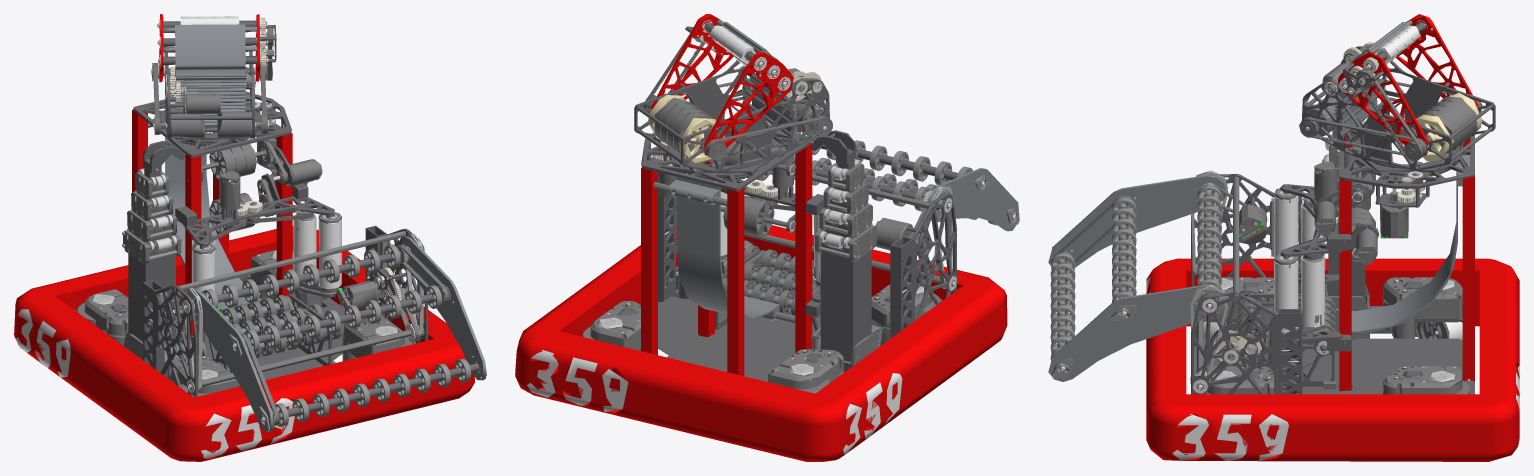
Rendered from poipounder-mmxx.glb.
3 views of the same model, side by side, from view 1: azimuth 30°, elevation 25°; view 2: azimuth 150°, elevation 25°; view 3: azimuth 270°, elevation 25° (orthographic). The views are drawn at different scales.
Visible parts, largest first — view 1: Part 7, object 1, object 151, object 121, Part 1 (×2), SDS MK5n Top Assembly (A) (×4), Intake Plate (×2), object 143, Kraken X60 Brushless Motor (×3), Kraken X44 Brushless Motor (×3), Deadaxle Tube_6.125_in (×2), object 144 (+8 smaller); view 2: Part 7, object 1, object 151, object 143, SDS MK5n Top Assembly (A) (×3), Tube 2"x1"x10" (×2), Intake Plate, Part 1, object 121, object 2, 3" Compliant Wheel (60A, 1" Wide, 3/8" Hex Bore), 126T 5M 9mm Wide Belt (+6 smaller); view 3: Part 7, object 1, Part 1 (×2), object 151, SDS MK5n Top Assembly (A) (×4), Intake Plate (×2), object 143, Deadaxle Tube_6.125_in (×2), Kraken X44 Brushless Motor (×3), Tube 2"x1"x10", Kraken X60 Brushless Motor (×2), Deadaxle Tube_5.75_in (+7 smaller).
Part boxes in pixels (box(x1,y1,x2,y2)): Part 7: box(14, 226, 474, 461); object 1: box(128, 25, 479, 381); object 151: box(132, 14, 449, 425); object 121: box(175, 24, 380, 312); Part 1 (×2): box(194, 236, 486, 431); SDS MK5n Top Assembly (A) (×4): box(75, 250, 412, 397); Intake Plate (×2): box(154, 228, 428, 397); object 143: box(165, 132, 261, 310); Kraken X60 Brushless Motor (×3): box(153, 111, 378, 310); Kraken X44 Brushless Motor (×3): box(170, 93, 322, 210); Deadaxle Tube_6.125_in (×2): box(192, 219, 341, 292); object 144: box(151, 68, 406, 299); Part 7: box(515, 225, 1007, 461); object 1: box(634, 26, 871, 381); object 151: box(641, 14, 931, 375); object 143: box(676, 177, 779, 319); SDS MK5n Top Assembly (A) (×3): box(582, 284, 942, 393); Tube 2"x1"x10" (×2): box(658, 189, 913, 338); Intake Plate: box(912, 193, 956, 321); Part 1: box(928, 168, 1019, 231); object 121: box(669, 21, 797, 320); object 2: box(653, 150, 876, 367); 3" Compliant Wheel (60A, 1" Wide, 3/8" Hex Bore): box(745, 200, 774, 237); 126T 5M 9mm Wide Belt: box(706, 117, 826, 158); Part 7: box(1146, 258, 1519, 461); object 1: box(1194, 46, 1495, 394); Part 1 (×2): box(1048, 175, 1225, 381); object 151: box(1056, 14, 1478, 391); SDS MK5n Top Assembly (A) (×4): box(1195, 277, 1474, 394); Intake Plate (×2): box(1191, 174, 1277, 394); object 143: box(1351, 164, 1457, 332); Deadaxle Tube_6.125_in (×2): box(1274, 194, 1298, 333); Kraken X44 Brushless Motor (×3): box(1314, 161, 1377, 264); Tube 2"x1"x10": box(1277, 309, 1302, 394); Kraken X60 Brushless Motor (×2): box(1239, 188, 1408, 244); Deadaxle Tube_5.75_in: box(1300, 256, 1325, 327).
Bounding box in the file's own units: 0.7684 × 0.8203 × 0.9703.
